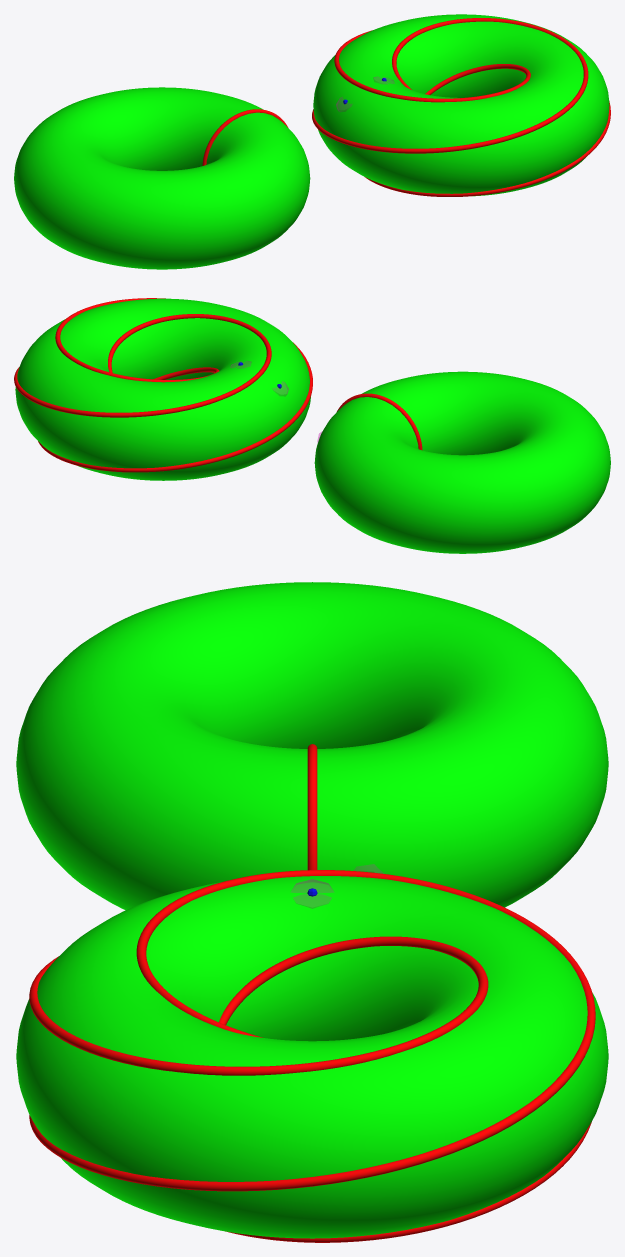
File: equivalent_heegaard_before.glb
The picture shows the model from 3 angles, top to bottom: view 1: azimuth 30°, elevation 25°; view 2: azimuth 150°, elevation 25°; view 3: azimuth 270°, elevation 25°; orthographic projection. The views are drawn at different scales.
Parts seen in each view (by area): view 1: T1, Reference Torus, TorusKnot_5_2, meridional_arc; view 2: T1, Reference Torus, TorusKnot_5_2, meridional_arc; view 3: Reference Torus, T1, TorusKnot_5_2, meridional_arc, Circle.003.
Part boxes in pixels (x1,y1,x2,y2): T1: (14, 87, 310, 269); Reference Torus: (313, 14, 609, 196); TorusKnot_5_2: (312, 18, 610, 196); meridional_arc: (202, 109, 288, 165); T1: (314, 371, 610, 553); Reference Torus: (15, 298, 310, 480); TorusKnot_5_2: (14, 298, 312, 472); meridional_arc: (337, 393, 422, 450); Reference Torus: (16, 876, 608, 1238); T1: (16, 582, 608, 910); TorusKnot_5_2: (29, 870, 595, 1242); meridional_arc: (307, 744, 317, 870); Circle.003: (291, 864, 383, 908).
Size of the model in its own units: 6.52 by 1.05 by 3.
